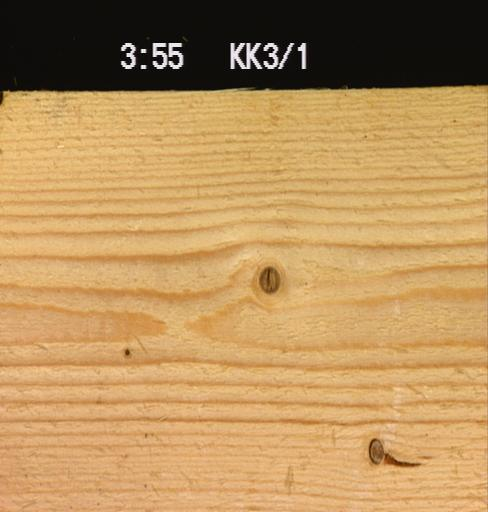dry_knot: (366, 435, 385, 465)
small_knot: (122, 345, 131, 357)
sound_knot: (256, 264, 281, 293)
